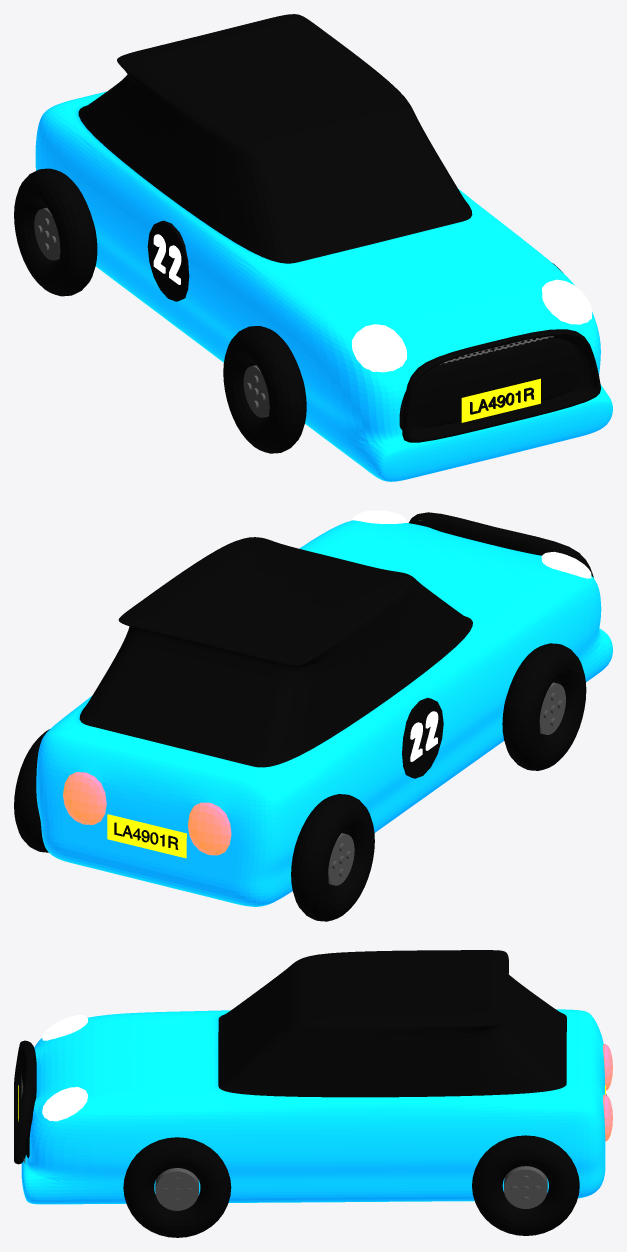
Rendered from car.gltf.
The picture shows the model from 3 angles, top to bottom: view 1: azimuth 30°, elevation 25°; view 2: azimuth 150°, elevation 25°; view 3: azimuth 270°, elevation 25°; orthographic projection. The views are drawn at different scales.
Parts seen in each view (by area): view 1: car.1-Nice Green (×2), car.1-Polished Black (×2), car.1-Dark Gradient, car.1-Pure White, car.1-Metalic_2, car.1-Yellow; view 2: car.1-Nice Green (×2), car.1-Polished Black (×2), car.1-Dark Gradient, car.1-Rainbow, car.1-Pure White, car.1-Metalic_2, car.1-Yellow; view 3: car.1-Nice Green (×2), car.1-Polished Black (×2), car.1-Dark Gradient, car.1-Metalic_2, car.1-Pure White, car.1-Rainbow.
Part boxes in pixels (x1,y1,x2,y2): car.1-Nice Green (×2): (35, 91, 612, 481); car.1-Polished Black (×2): (14, 14, 600, 453); car.1-Dark Gradient: (78, 74, 472, 263); car.1-Pure White: (153, 234, 591, 372); car.1-Metalic_2: (34, 207, 553, 417); car.1-Yellow: (461, 378, 540, 422); car.1-Nice Green (×2): (36, 520, 612, 906); car.1-Polished Black (×2): (14, 512, 593, 921); car.1-Dark Gradient: (79, 582, 472, 767); car.1-Rainbow: (63, 772, 231, 855); car.1-Pure White: (352, 510, 591, 761); car.1-Metalic_2: (328, 520, 565, 885); car.1-Yellow: (107, 814, 186, 858); car.1-Nice Green (×2): (21, 1009, 605, 1204); car.1-Polished Black (×2): (14, 950, 579, 1237); car.1-Dark Gradient: (218, 970, 566, 1097); car.1-Metalic_2: (21, 1074, 547, 1210); car.1-Pure White: (42, 1015, 87, 1121); car.1-Rainbow: (603, 1044, 612, 1141).
Size of the model in its own units: 259 by 188 by 522.
